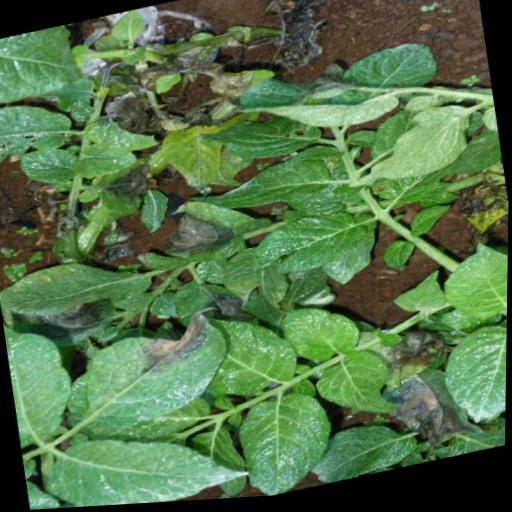Late Blight: (53, 296, 234, 450), (0, 242, 162, 344), (370, 358, 482, 459), (153, 187, 277, 277)
